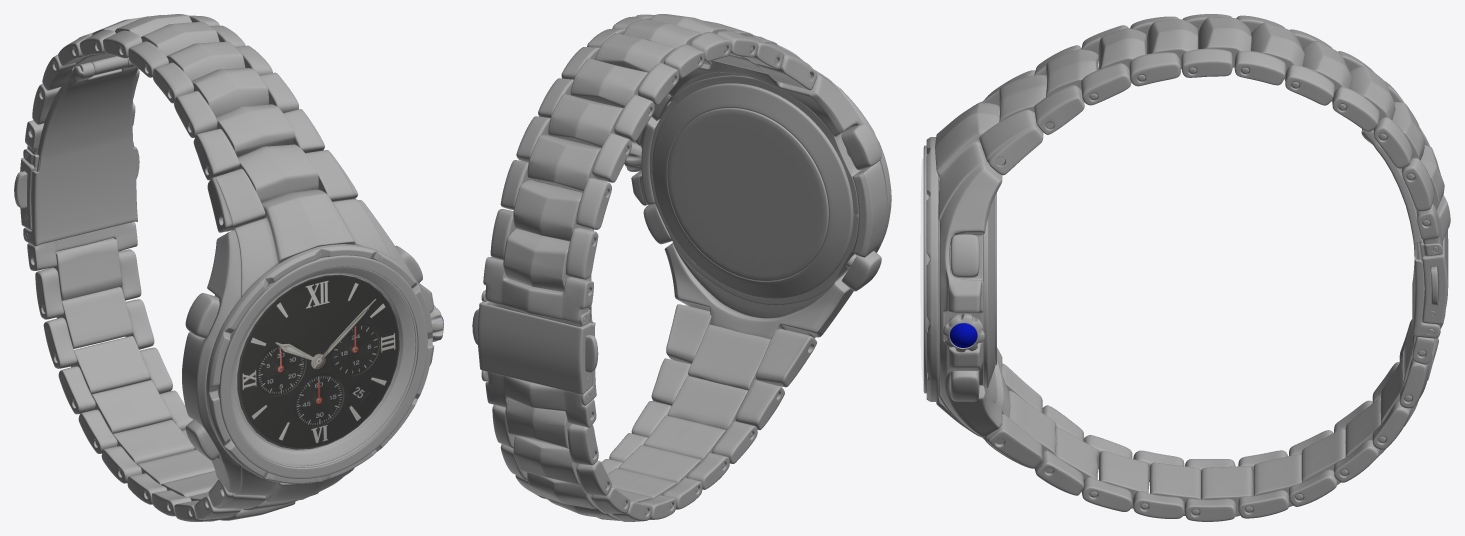
The model's file is watch2.gltf.
The picture shows the model from 3 angles, left to right: view 1: azimuth 30°, elevation 25°; view 2: azimuth 150°, elevation 25°; view 3: azimuth 270°, elevation 25°; orthographic projection. The views are drawn at different scales.
Parts seen in each view (by area): view 1: watch-frame, glass_Cylinder:067.004, Circle.002, Cylinder:000_Cylinder:068.004, Cylinder:003_Cylinder:070.004, Cylinder:002_Cylinder:069.004, Cube:003_Cube:009.004; view 2: watch-frame, Cylinder:049_Cylinder:074.004, Cylinder_Cylinder:072.004, Cube:003_Cube:009.004, Cylinder:002_Cylinder:069.004; view 3: watch-frame, Cylinder:002_Cylinder:069.004, Cylinder_Cylinder:072.004, Cube:003_Cube:009.004, Cylinder:006_Cylinder:001.004, Cylinder:000_Cylinder:068.004.
Boxes of the visible parts, x1=… form: watch-frame: x1=14, y1=14, x2=434, y2=521; glass_Cylinder:067.004: x1=230, y1=267, x2=417, y2=467; Circle.002: x1=237, y1=274, x2=399, y2=449; Cylinder:000_Cylinder:068.004: x1=218, y1=255, x2=427, y2=478; Cylinder:003_Cylinder:070.004: x1=230, y1=267, x2=415, y2=466; Cylinder:002_Cylinder:069.004: x1=206, y1=244, x2=432, y2=483; Cube:003_Cube:009.004: x1=185, y1=245, x2=422, y2=460; watch-frame: x1=472, y1=14, x2=887, y2=521; Cylinder:049_Cylinder:074.004: x1=667, y1=108, x2=828, y2=281; Cylinder_Cylinder:072.004: x1=652, y1=83, x2=853, y2=298; Cube:003_Cube:009.004: x1=643, y1=94, x2=881, y2=291; Cylinder:002_Cylinder:069.004: x1=825, y1=76, x2=891, y2=252; watch-frame: x1=935, y1=14, x2=1450, y2=521; Cylinder:002_Cylinder:069.004: x1=926, y1=137, x2=939, y2=401; Cylinder_Cylinder:072.004: x1=983, y1=196, x2=995, y2=388; Cube:003_Cube:009.004: x1=950, y1=234, x2=979, y2=401; Cylinder:006_Cylinder:001.004: x1=943, y1=313, x2=984, y2=352; Cylinder:000_Cylinder:068.004: x1=923, y1=145, x2=930, y2=393.
Size of the model in its own units: 0.0614 by 0.1073 by 0.1078.
4 materials, 1 textured.
